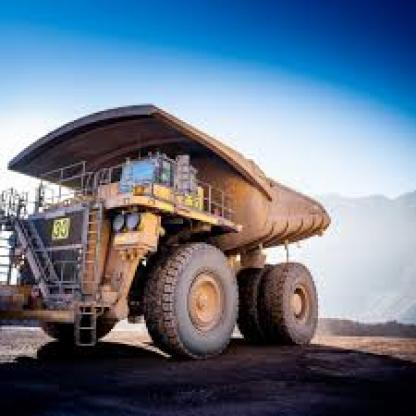dump_truck: (2, 87, 331, 355)
